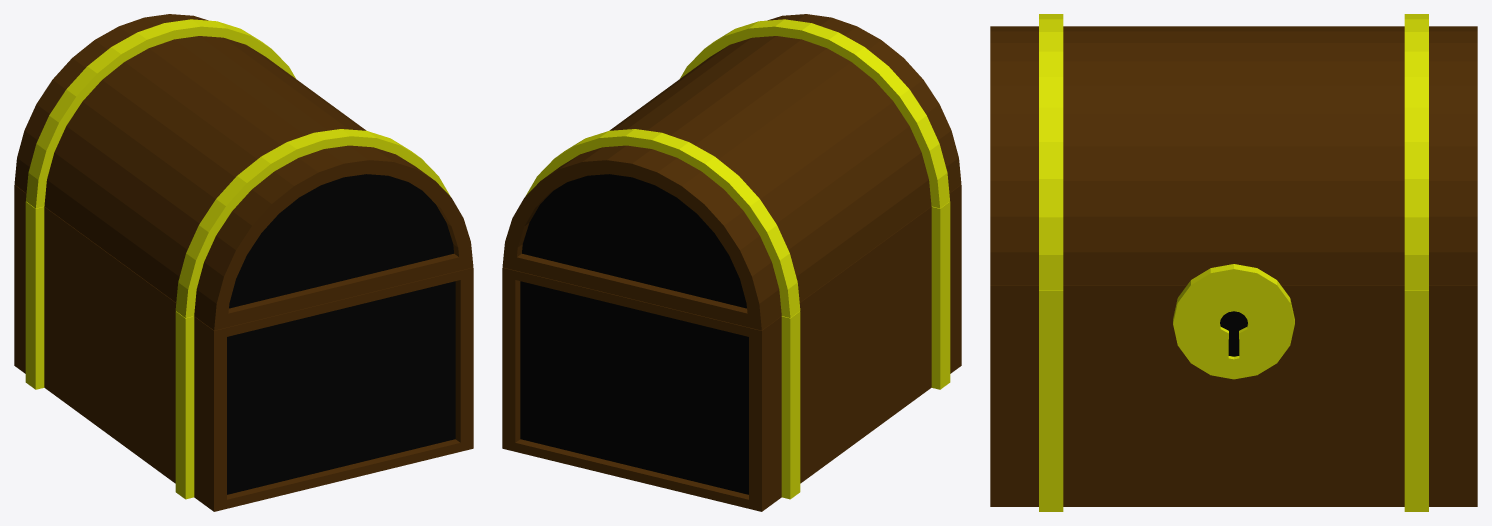
Rendered from coffreferme.fbx.
The picture shows the model from 3 angles, left to right: view 1: azimuth 30°, elevation 25°; view 2: azimuth 150°, elevation 25°; view 3: azimuth 270°, elevation 25°; orthographic projection. The views are drawn at different scales.
Parts seen in each view (by area): view 1: Cylindre.015, Cube.011, Cylindre.024, Cylindre.023, Cube.012, Cube.013; view 2: Cylindre.015, Cube.011, Cylindre.023, Cylindre.024, Cube.012, Cube.013; view 3: Cylindre.015, Cube.011, Cylindre.025, Cylindre.023, Cylindre.024, Cube.012, Cube.013.
Part boxes in pixels (x1,y1,x2,y2): Cylindre.015: [14, 14, 473, 330]; Cube.011: [14, 185, 473, 511]; Cylindre.024: [175, 129, 450, 317]; Cylindre.023: [26, 19, 295, 208]; Cube.012: [25, 201, 44, 389]; Cube.013: [175, 311, 194, 499]; Cylindre.015: [502, 14, 961, 330]; Cube.011: [502, 185, 961, 511]; Cylindre.023: [525, 129, 800, 317]; Cylindre.024: [680, 19, 949, 208]; Cube.012: [781, 311, 800, 499]; Cube.013: [931, 201, 950, 389]; Cylindre.015: [990, 26, 1477, 285]; Cube.011: [990, 285, 1477, 506]; Cylindre.025: [1173, 264, 1294, 379]; Cylindre.023: [1404, 14, 1428, 290]; Cylindre.024: [1039, 14, 1063, 290]; Cube.012: [1404, 290, 1428, 511]; Cube.013: [1039, 290, 1063, 511].
Bounding box in the file's own units: 320 × 360 × 400.
